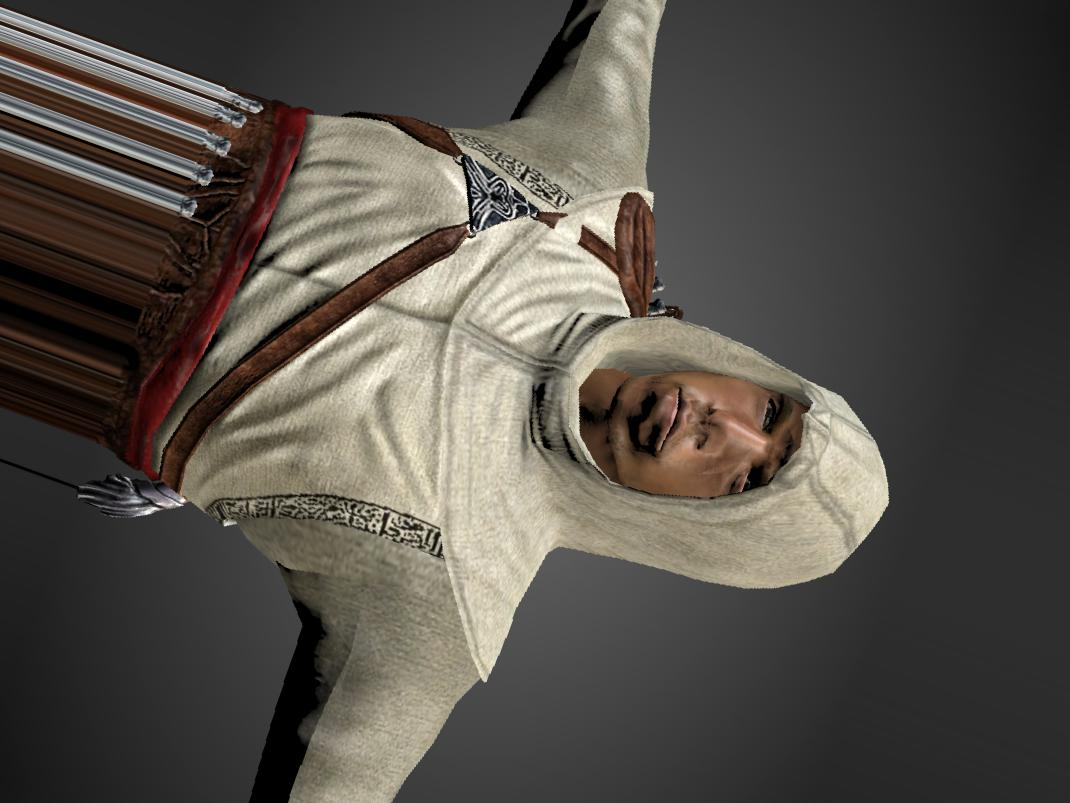clip: (546, 207, 597, 248)
